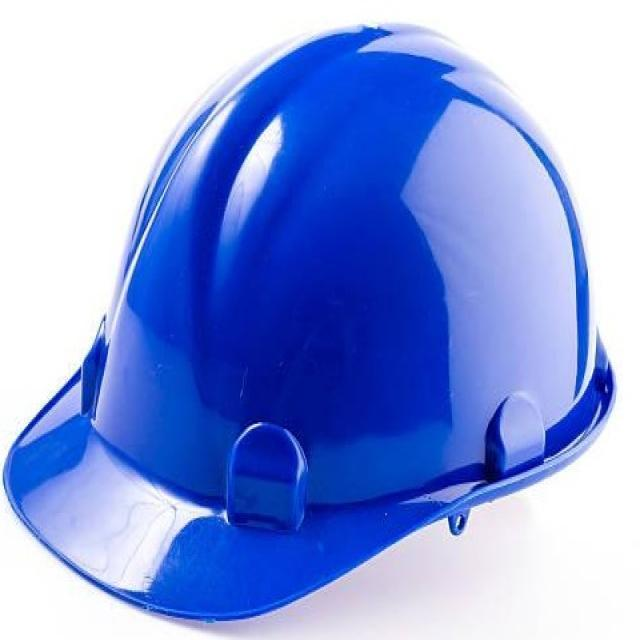helmet: (5, 26, 614, 619)
